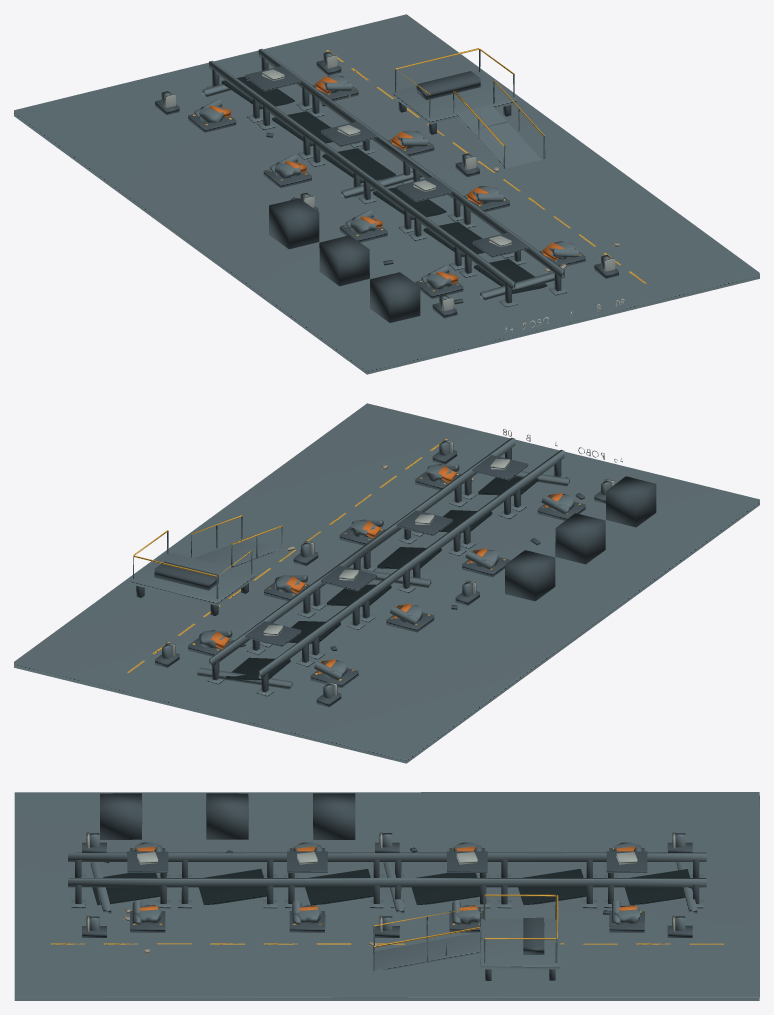
File: robotic_assembly_line_d3_lod1.meshopt.glb
The picture shows the model from 3 angles, top to bottom: view 1: azimuth 30°, elevation 25°; view 2: azimuth 150°, elevation 25°; view 3: azimuth 270°, elevation 25°; orthographic projection. The views are drawn at different scales.
Parts seen in each view (by area): view 1: ROBOTIC_ASSEMBLY_LINE_LOD1_STATIC_GEOMETRY; view 2: ROBOTIC_ASSEMBLY_LINE_LOD1_STATIC_GEOMETRY; view 3: ROBOTIC_ASSEMBLY_LINE_LOD1_STATIC_GEOMETRY.
Boxes of the visible parts, x1,y1,x2,y2 form: ROBOTIC_ASSEMBLY_LINE_LOD1_STATIC_GEOMETRY: (14,14,759,374); ROBOTIC_ASSEMBLY_LINE_LOD1_STATIC_GEOMETRY: (14,403,759,763); ROBOTIC_ASSEMBLY_LINE_LOD1_STATIC_GEOMETRY: (14,792,759,1000).
Size of the model in its own units: 17.99 by 2.11 by 28.02.
